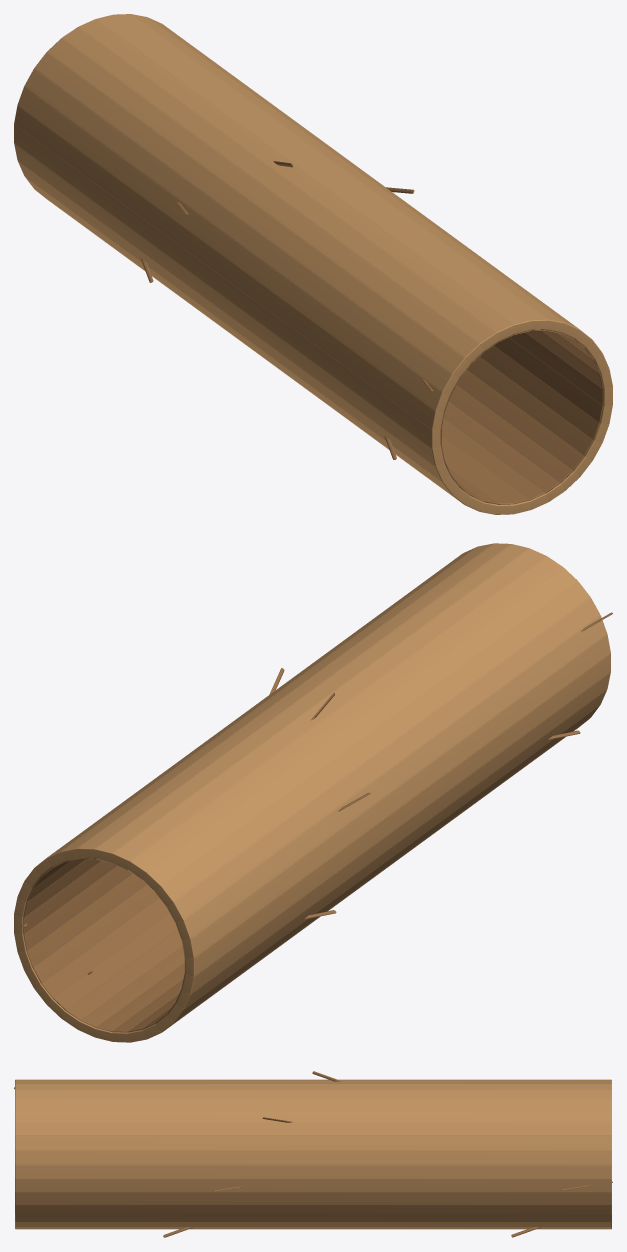
Rendered from roll_24.glb.
The picture shows the model from 3 angles, top to bottom: view 1: azimuth 30°, elevation 25°; view 2: azimuth 150°, elevation 25°; view 3: azimuth 270°, elevation 25°; orthographic projection. The views are drawn at different scales.
Parts seen in each view (by area): view 1: roll_24.001; view 2: roll_24.001; view 3: roll_24.001.
Part boxes in pixels (bbox=[...]): roll_24.001: bbox=[14, 14, 612, 514]; roll_24.001: bbox=[14, 543, 612, 1042]; roll_24.001: bbox=[14, 1071, 612, 1237].
Size of the model in its own units: 6.56 by 6.7 by 24.08.
